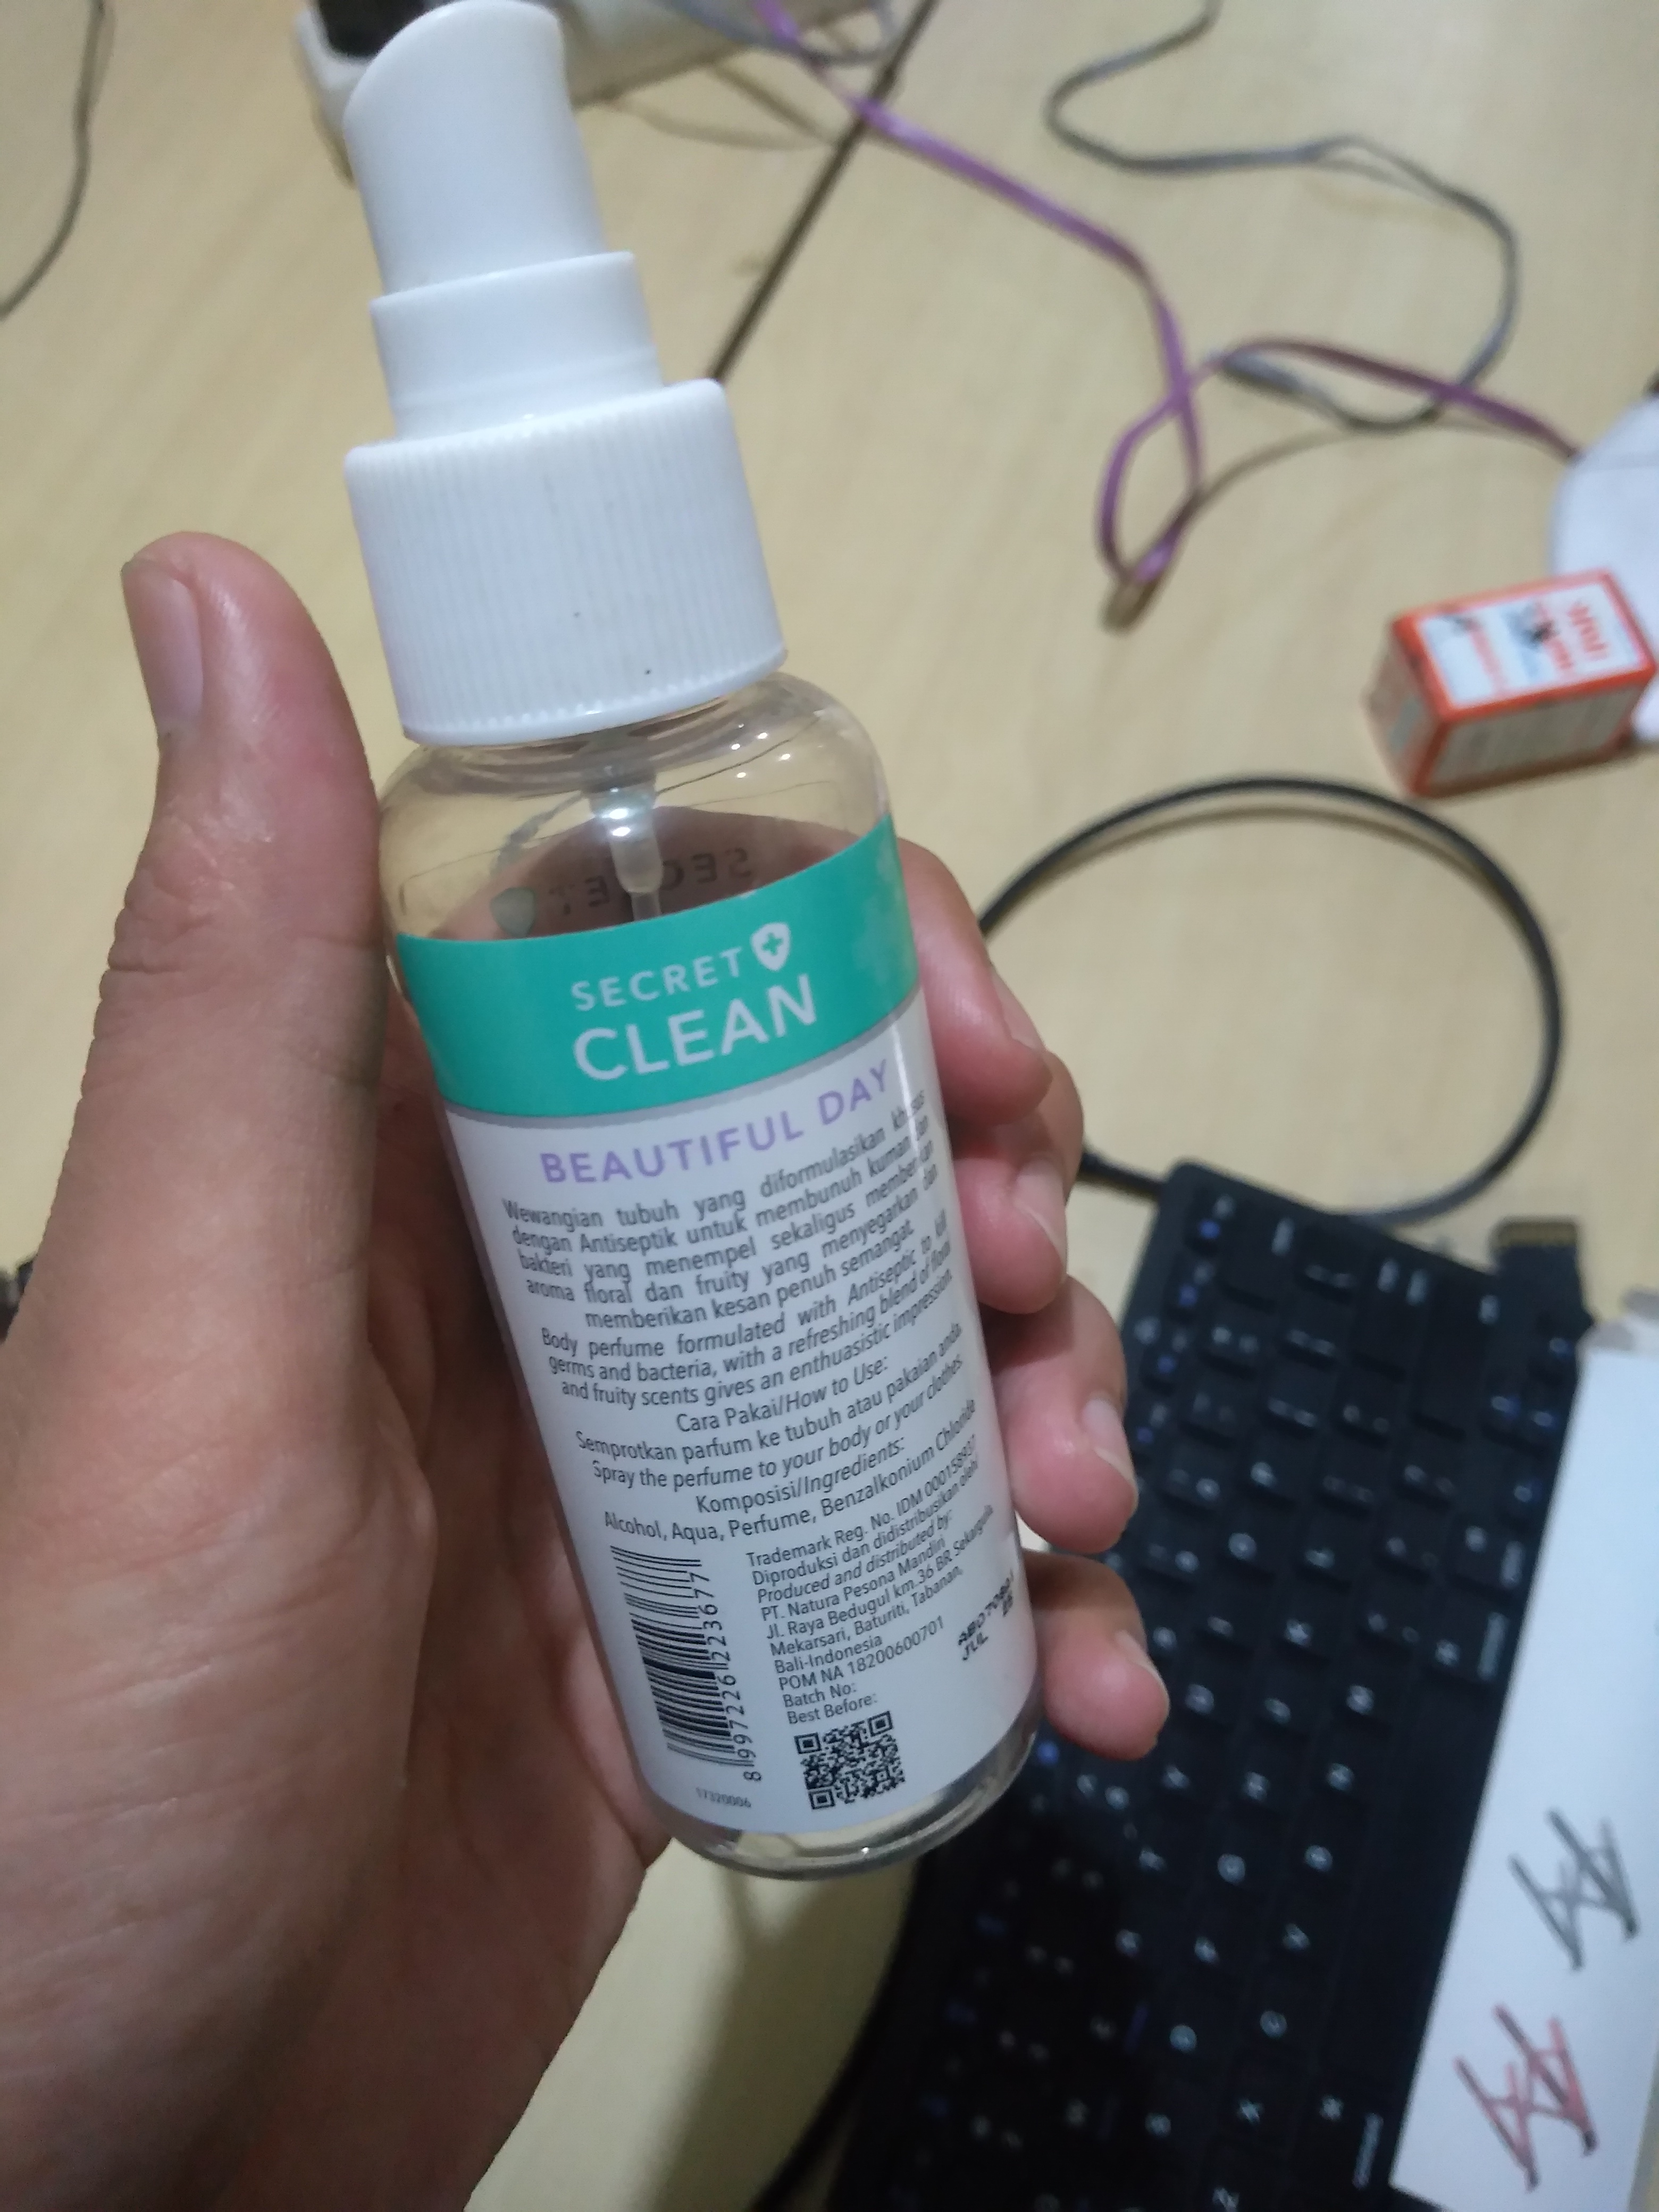hand sanitizer: (284, 9, 1129, 1956)
